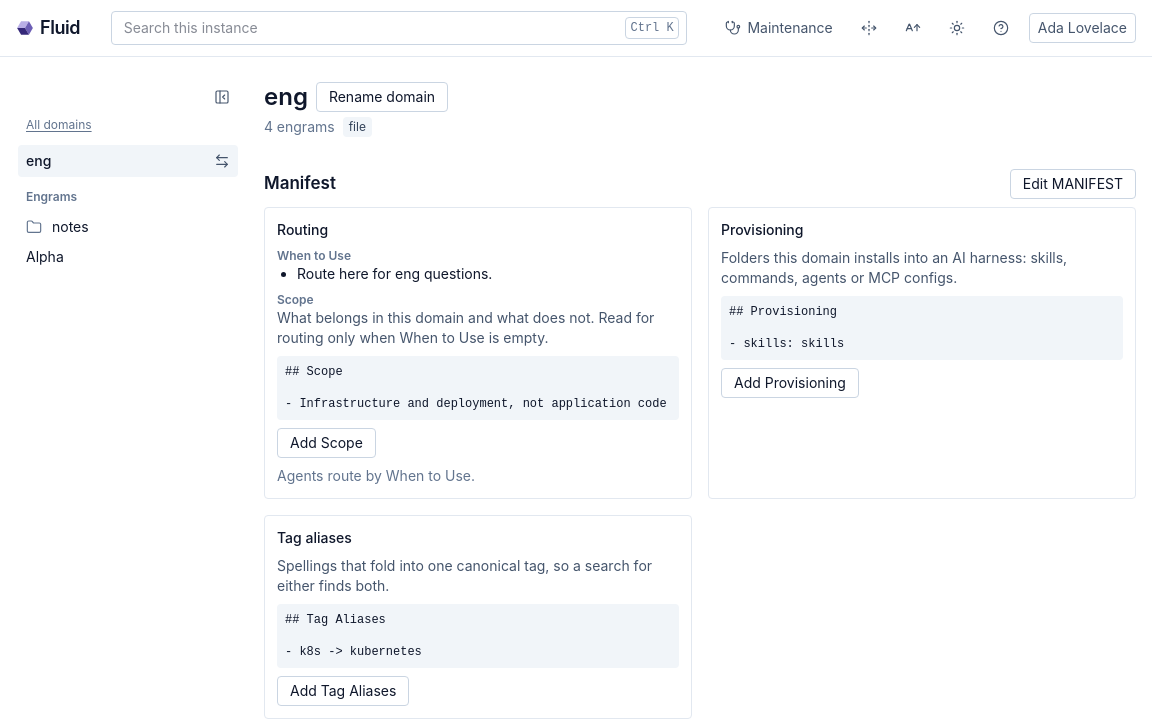
Scenario: the domain screen › carries the section to the editor when the action is pressed
Click the button "Add Tag Aliases": click(343, 691) [277,676,409,706]
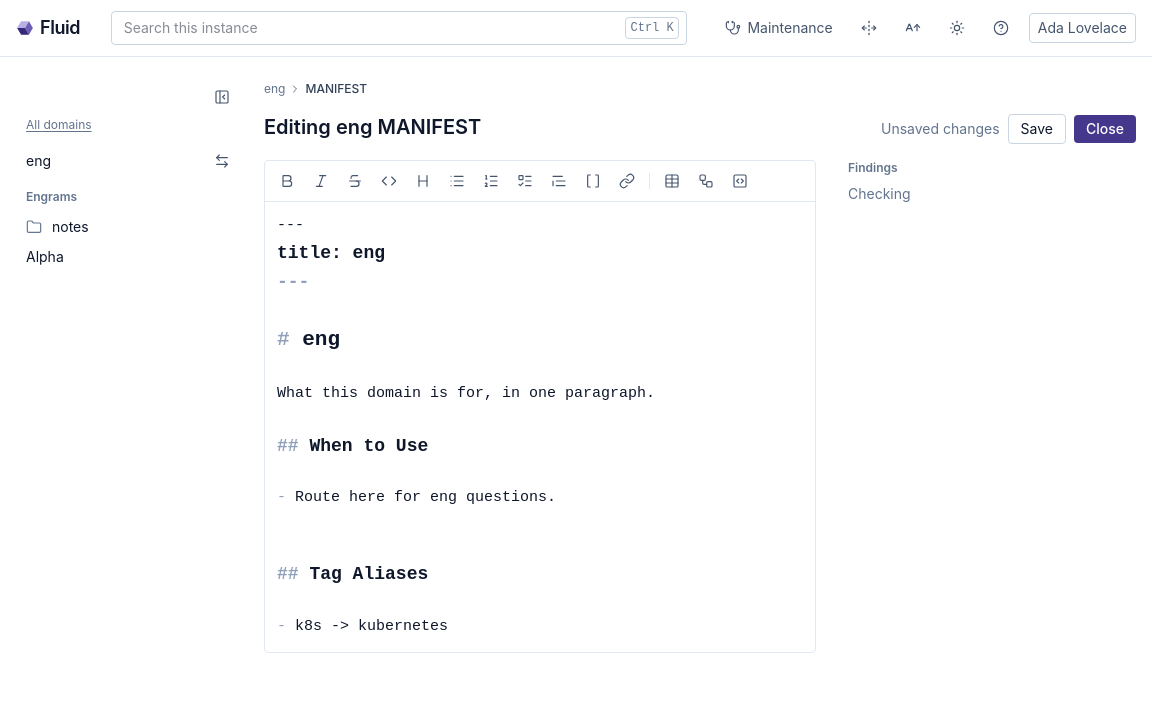
Expected: the heading "Editing eng MANIFEST" is shown, [264,113,481,141]
Expected: the field named "MANIFEST source" shows "k8s -> kubernetes", [277,217,655,635]
